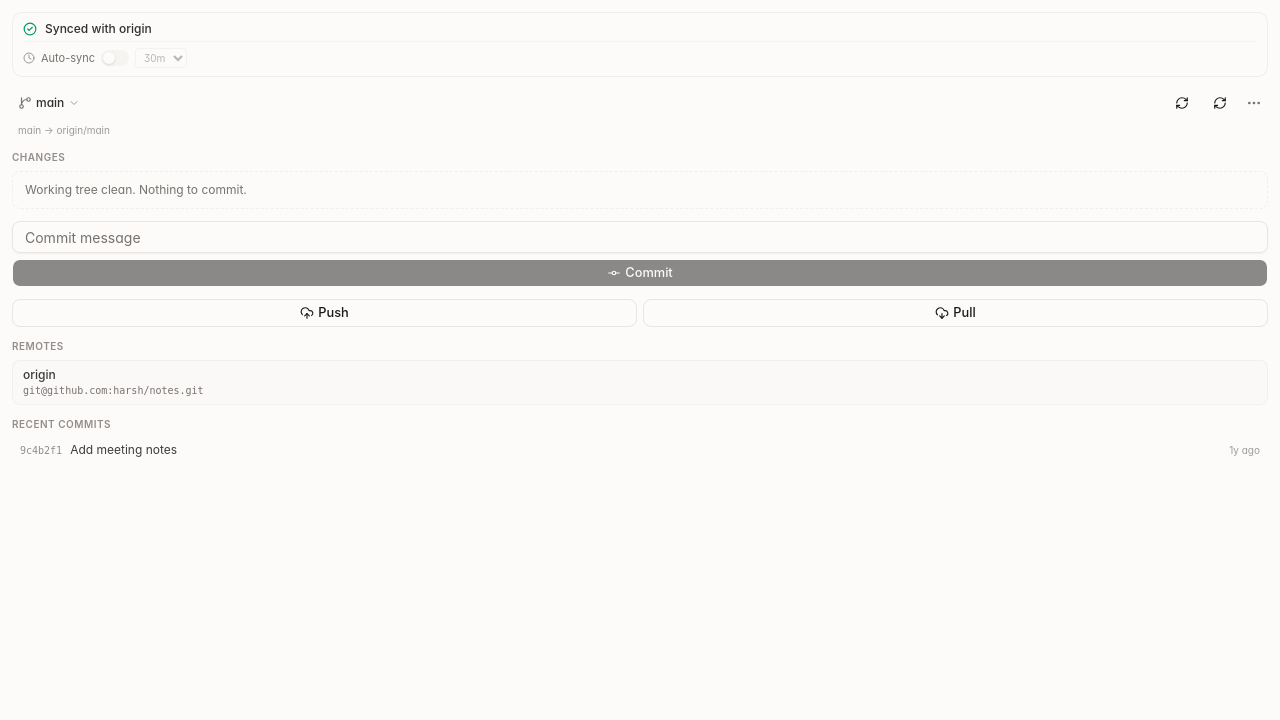
Test: branch switcher menu › 'New branch…' toggles the inline create form
Click the button with aria-label "Switch branch" at (49, 103), box [12,89,86,117]
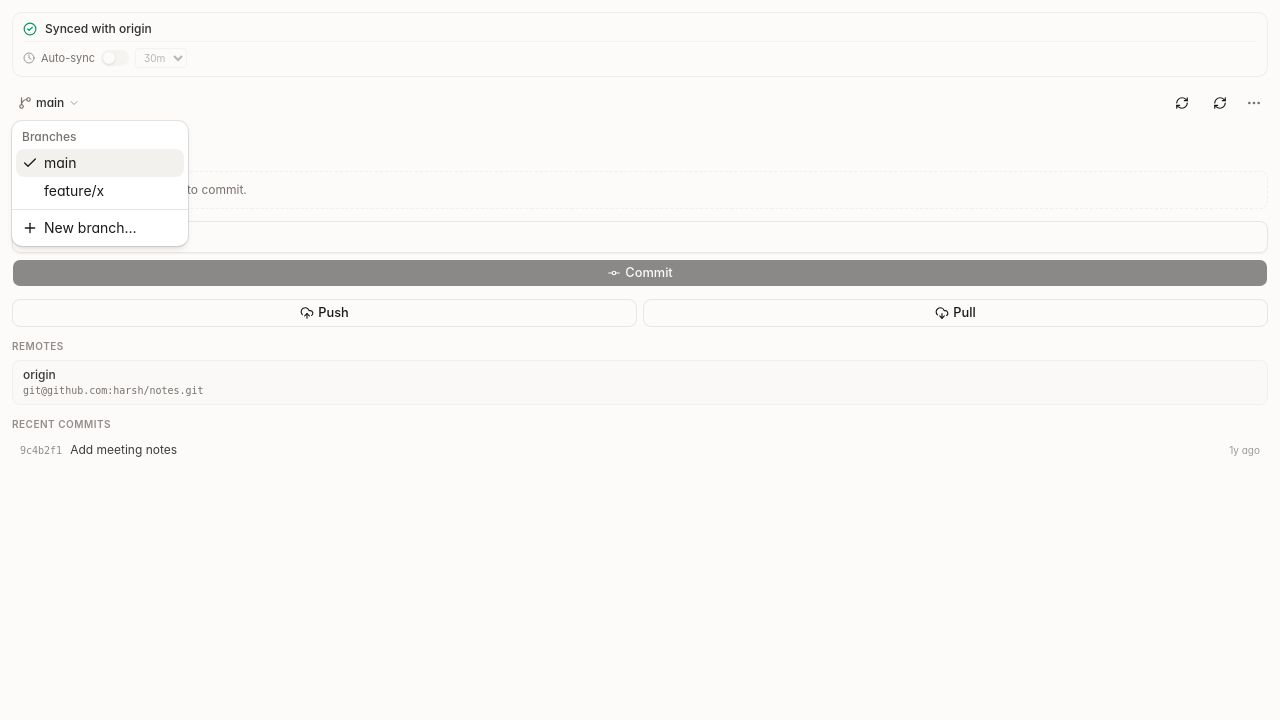
Result: the menu is shown at [12,121,188,246]
Click the menu item "New branch…" at (79, 228), box [22,219,137,236]
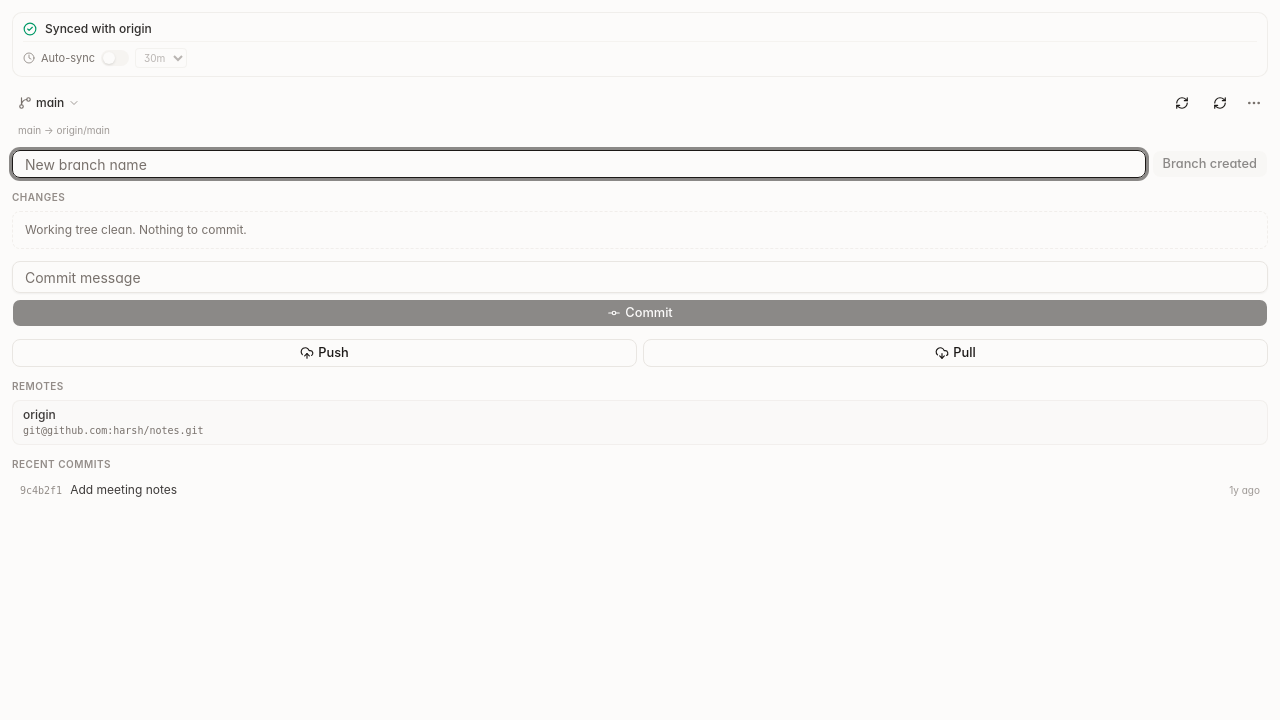
Result: the field labelled "New branch name" is shown at [12,150,1146,178]
